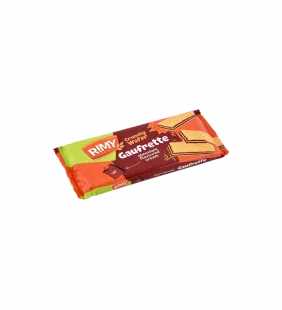RIMY: (44, 100, 236, 205)
